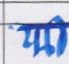i_matra: (51, 16, 66, 56)
